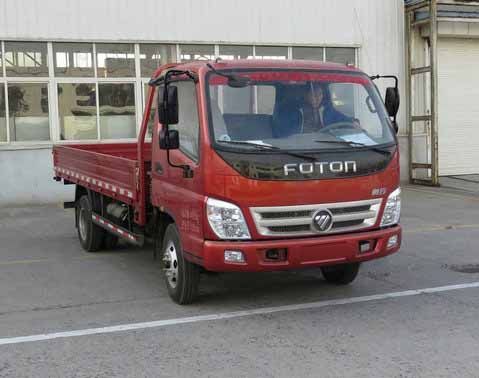smalltruck: (48, 49, 404, 309)
